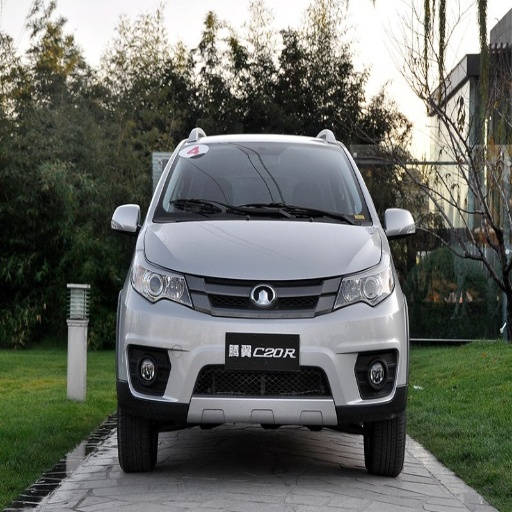front_bumper: (117, 273, 408, 431)
front_right_light: (131, 260, 193, 306)
hood: (142, 220, 382, 278)
